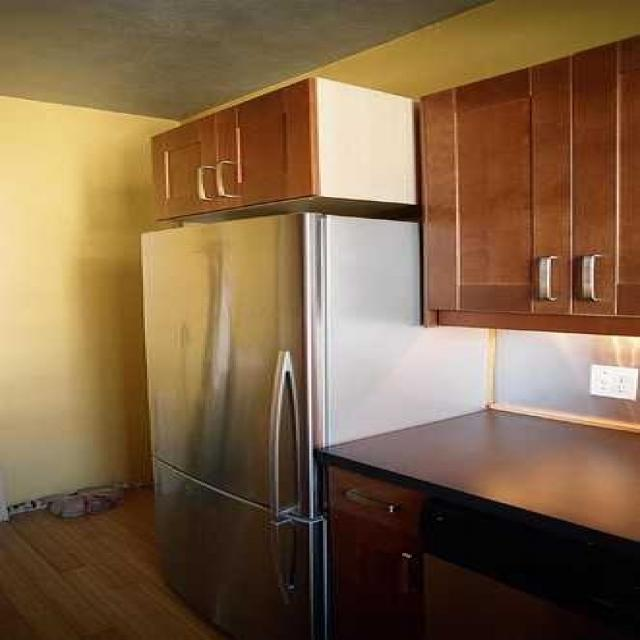refrigerator: (140, 213, 332, 632)
